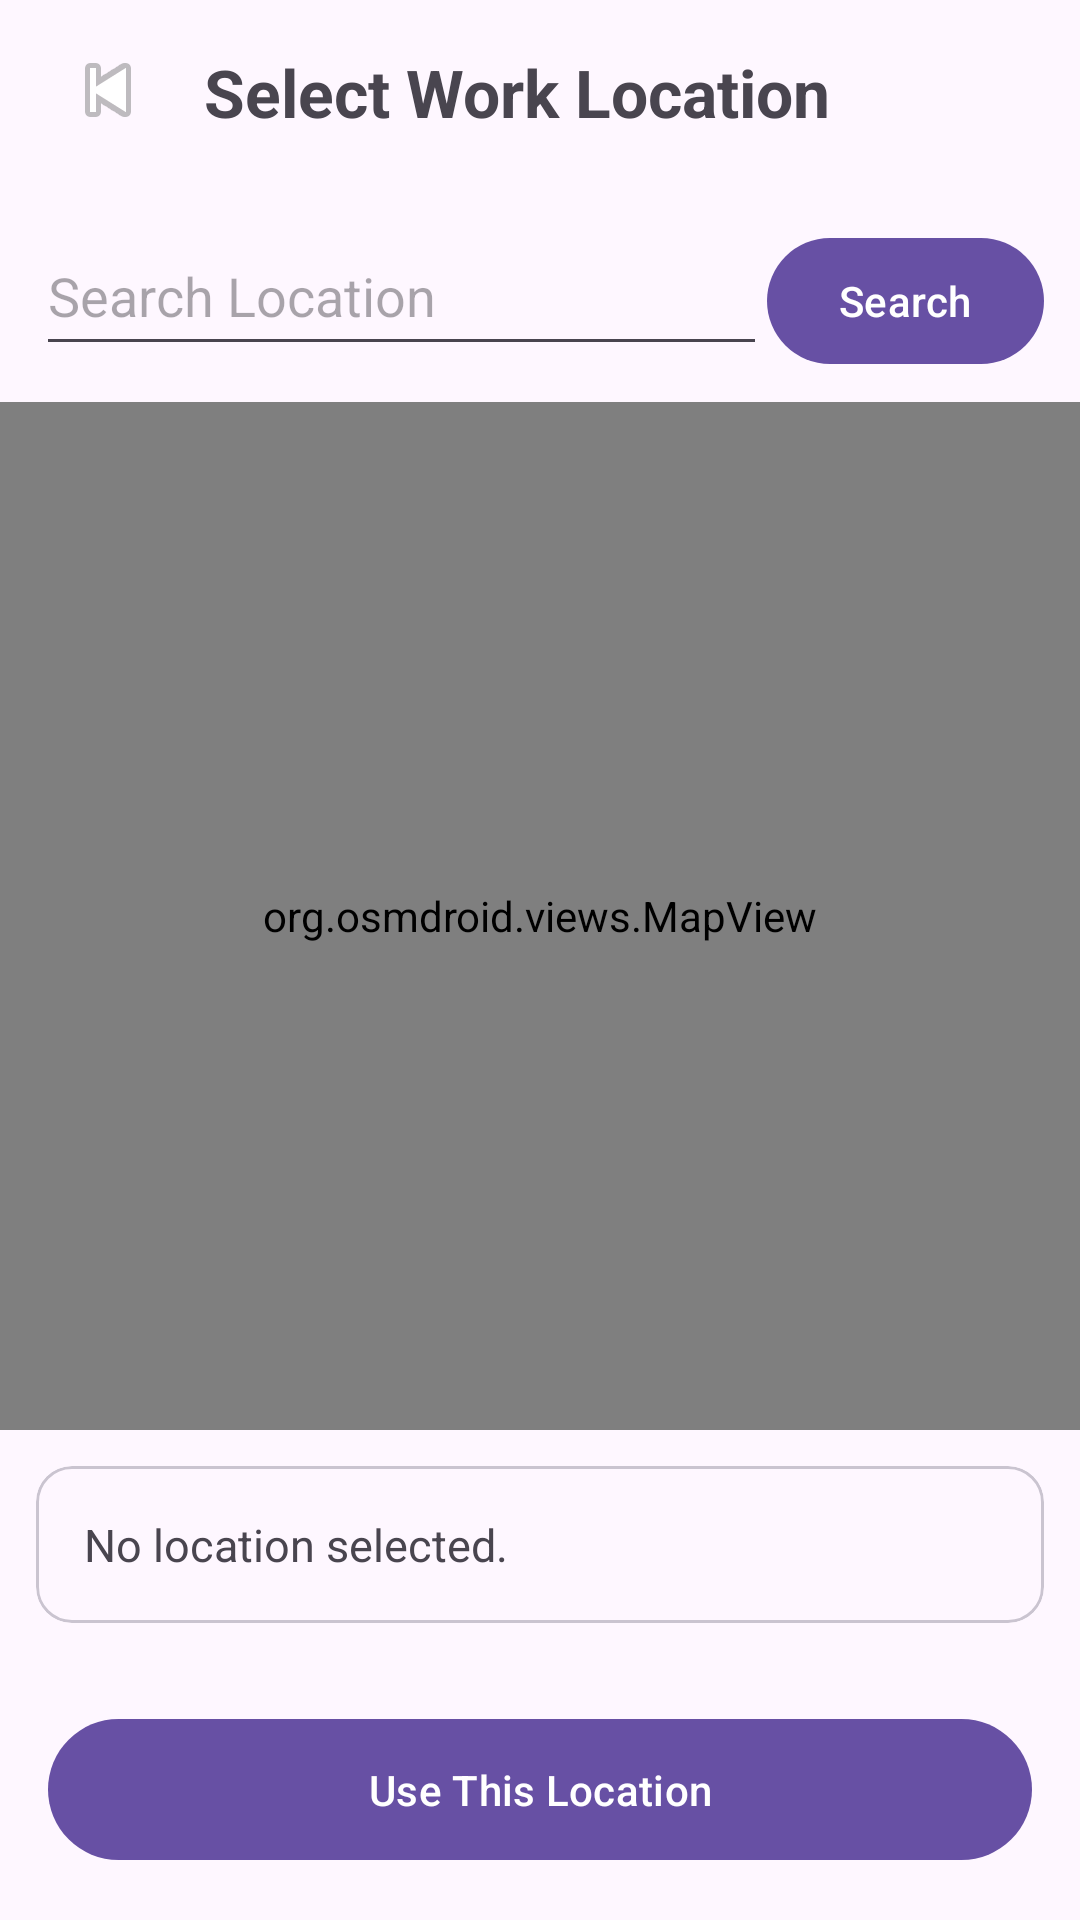

Screen size 1080x1920. Icon name, then its box in pixels as bbox(x1, y1, x2, y2):
previous: bbox(85, 63, 131, 117)
